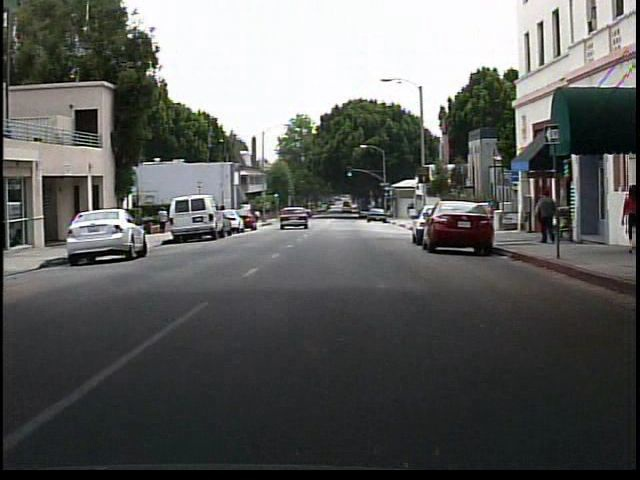person: (530, 187, 561, 248), (155, 203, 171, 234)
